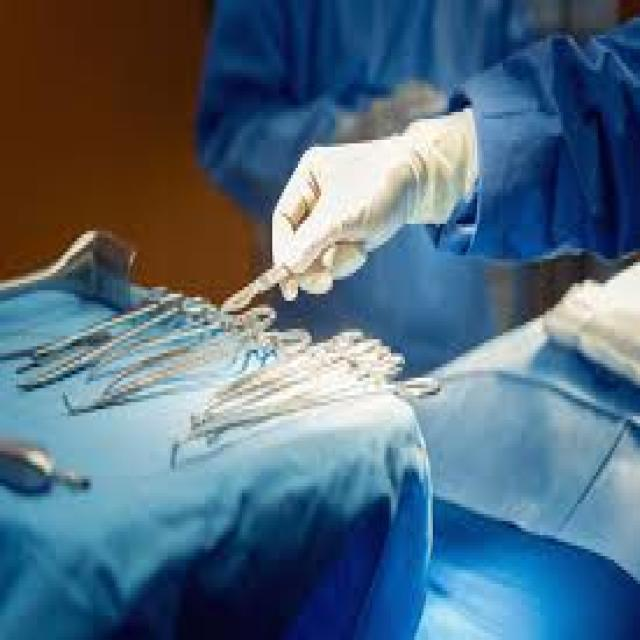tools_table: (0, 231, 451, 640)
